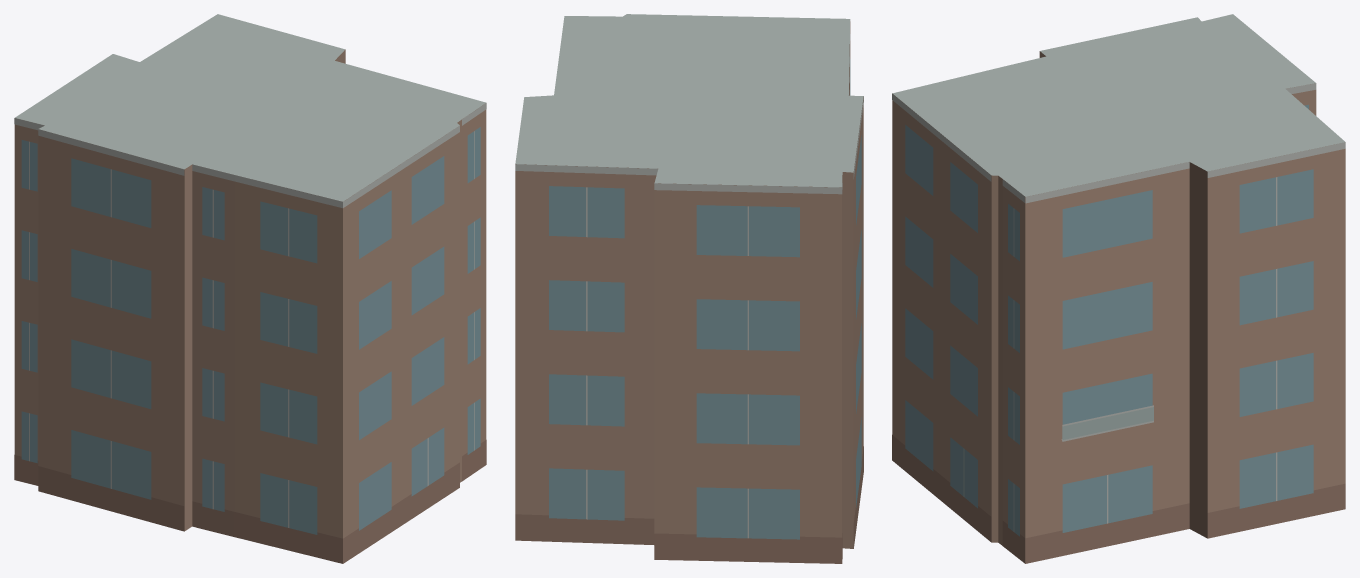
File: survey-upis-32957158.glb
3 renders of one model, left to right at view 1: azimuth 30°, elevation 25°; view 2: azimuth 150°, elevation 25°; view 3: azimuth 270°, elevation 25°, orthographic. The views are drawn at different scales.
Visible parts, largest first — view 1: survey-upis-32957158.tmp; view 2: survey-upis-32957158.tmp; view 3: survey-upis-32957158.tmp.
Part boxes in pixels (left/top/right/bottom): survey-upis-32957158.tmp: left=14, top=14, right=486, bottom=563; survey-upis-32957158.tmp: left=515, top=14, right=863, bottom=563; survey-upis-32957158.tmp: left=892, top=14, right=1345, bottom=563.
Bounding box in the file's own units: 14.43 × 13.5 × 15.12.
